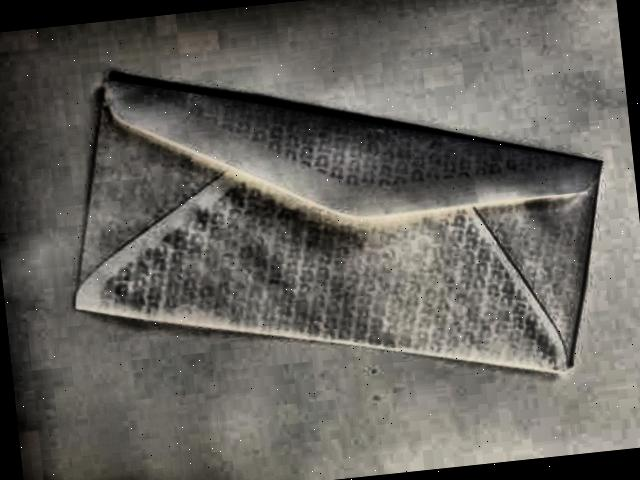Paper: (31, 16, 628, 445)
